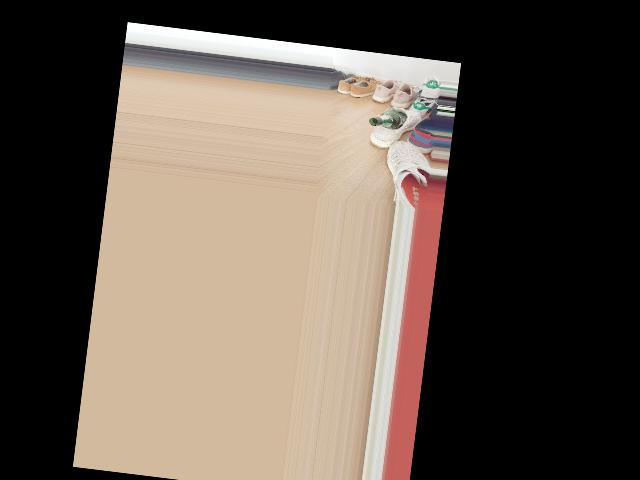beer: (368, 108, 406, 130)
